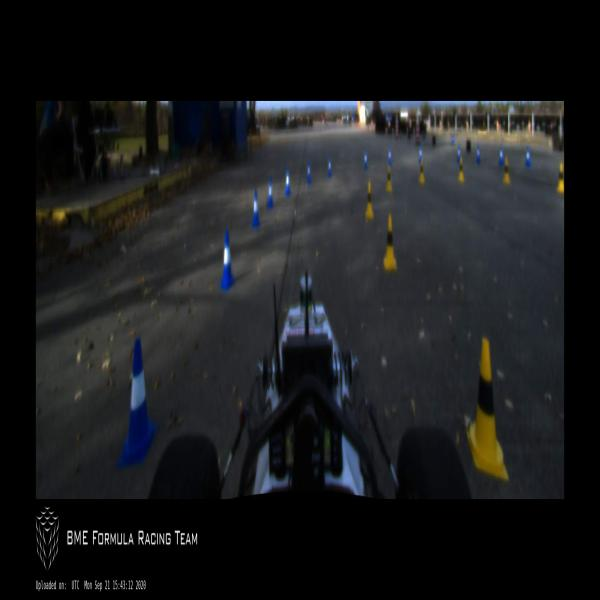blue_cone: (117, 338, 158, 467), (219, 228, 235, 288), (251, 190, 260, 228), (283, 164, 291, 194), (266, 178, 274, 206), (525, 145, 531, 168), (326, 153, 332, 176), (498, 144, 504, 166), (306, 160, 312, 182), (362, 150, 368, 169), (476, 142, 481, 164), (388, 146, 392, 166), (456, 146, 460, 163), (419, 144, 422, 163)
yellow_cone: (466, 338, 510, 483), (382, 216, 397, 270), (364, 179, 374, 219), (556, 162, 564, 193), (418, 157, 426, 183), (386, 164, 392, 192), (503, 160, 510, 183), (458, 158, 465, 180)
